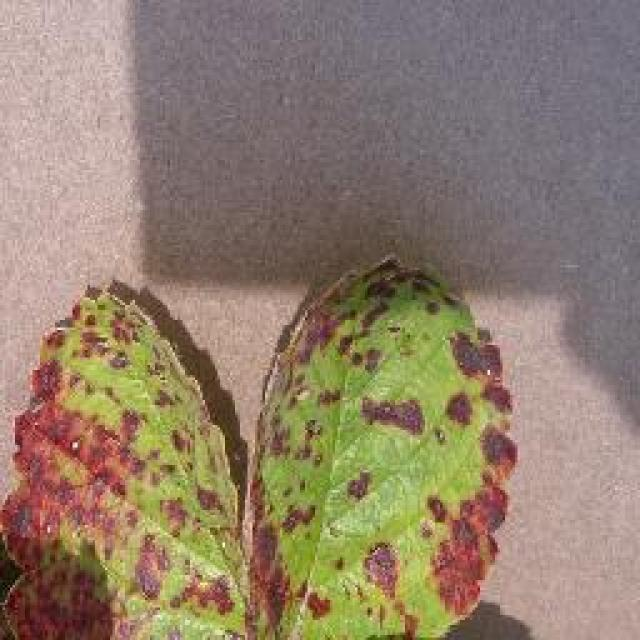Strawberry leaf scorch: (18, 300, 492, 613)
